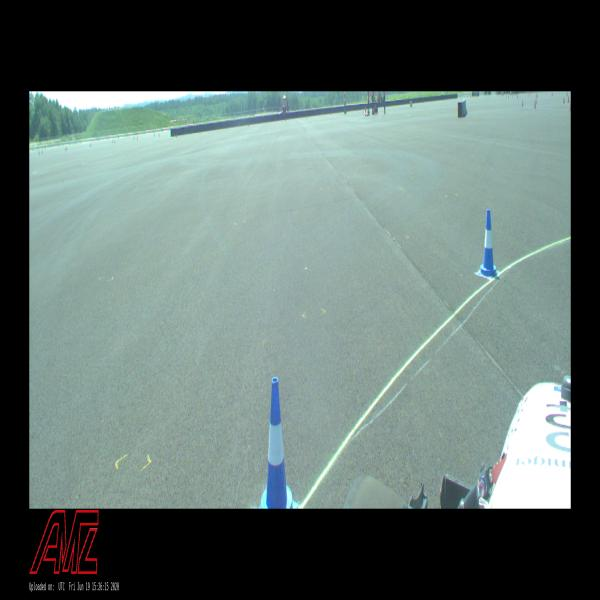blue_cone: (260, 378, 298, 509), (479, 210, 497, 276)
unknown_cone: (534, 101, 536, 108), (568, 96, 569, 102)
